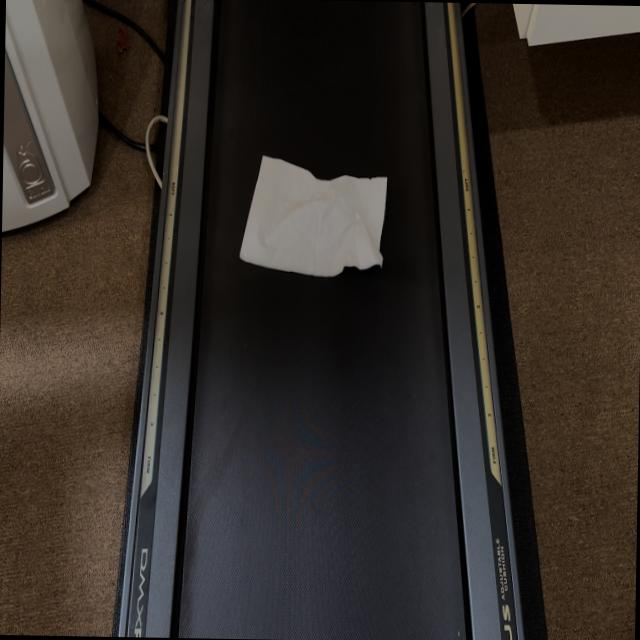Recycle: (238, 155, 388, 279)
